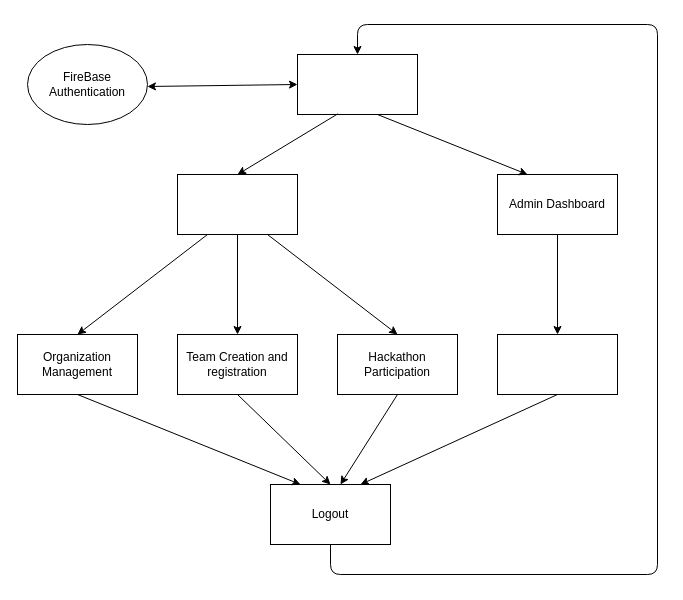
This 683x600 diagram has some shape labels left out. The shapes that lost their labels are listed below. From the top down, each one's centre as x and y in pixels, then its label:
the point at 357,84: Login/Sign up
the point at 237,204: Hacker Dashboard
the point at 557,364: Hackathon creation Management
